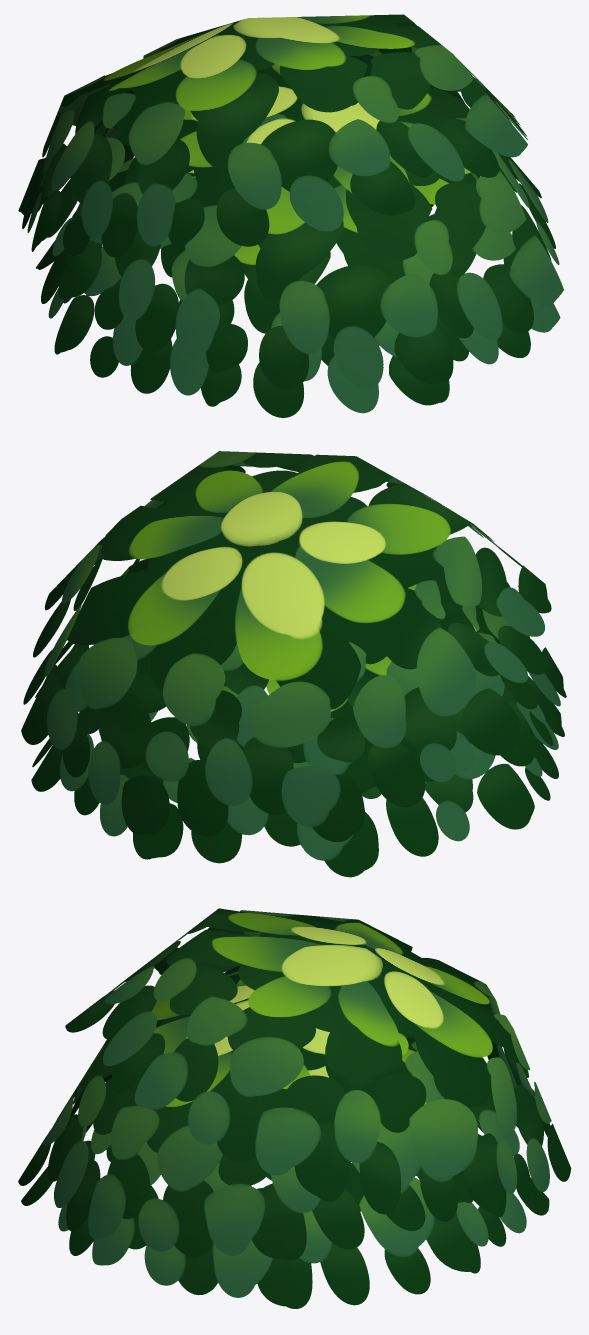
Rendered from BushGreen.fbx.
3 views of the same model, one above another, from view 1: azimuth 30°, elevation 25°; view 2: azimuth 150°, elevation 25°; view 3: azimuth 270°, elevation 25° (orthographic). The views are drawn at different scales.
Parts seen in each view (by area): view 1: GreenBush; view 2: GreenBush; view 3: GreenBush.
Boxes of the visible parts, bbox=[...] form: GreenBush: bbox=[18, 14, 563, 417]; GreenBush: bbox=[21, 451, 566, 877]; GreenBush: bbox=[18, 908, 571, 1308].
Size of the model in its own units: 243 by 128 by 249.
